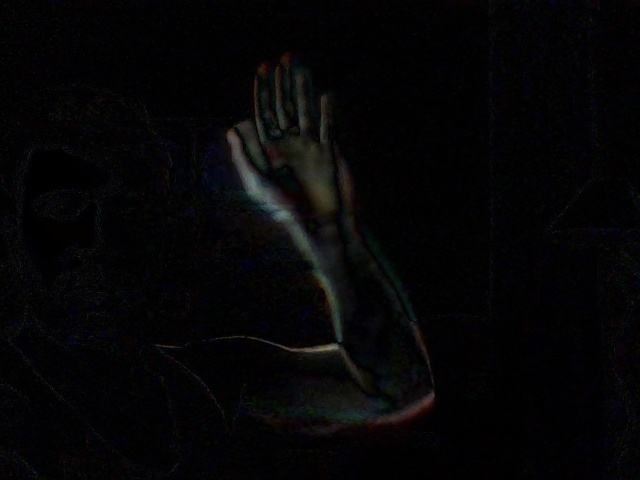arm_fo: (206, 48, 447, 423)
